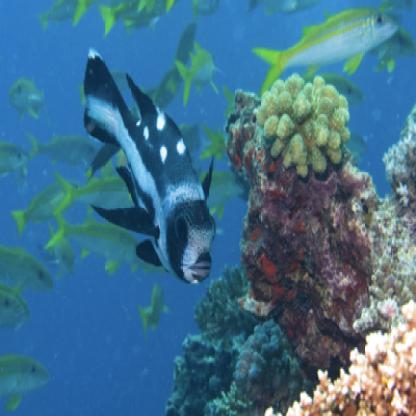Lutjanidae -Snappers-: (77, 40, 217, 287)
